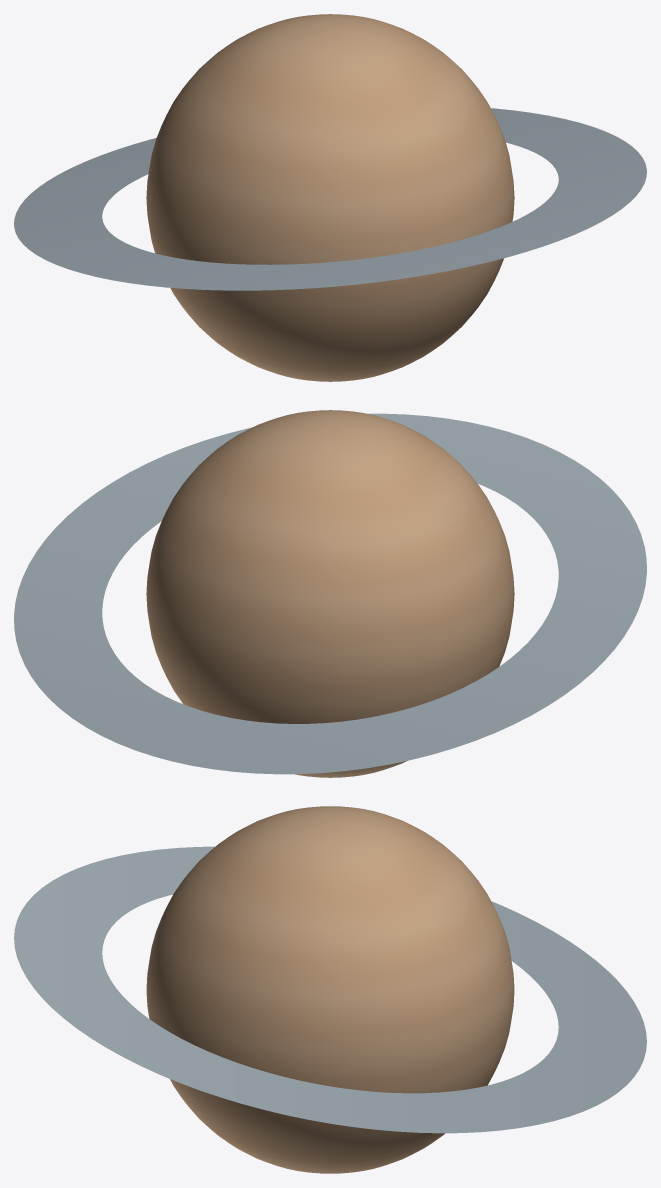
Rendered from planet_02.glb.
The picture shows the model from 3 angles, top to bottom: view 1: azimuth 30°, elevation 25°; view 2: azimuth 150°, elevation 25°; view 3: azimuth 270°, elevation 25°; orthographic projection.
Parts seen in each view (by area): view 1: planet_02_painted_mesh; view 2: planet_02_painted_mesh; view 3: planet_02_painted_mesh.
Boxes of the visible parts, left/top/right/bottom form: planet_02_painted_mesh: left=14, top=14, right=646, bottom=381; planet_02_painted_mesh: left=14, top=410, right=646, bottom=777; planet_02_painted_mesh: left=14, top=806, right=646, bottom=1173.
Bounding box in the file's own units: 3.44 × 2 × 3.44.
